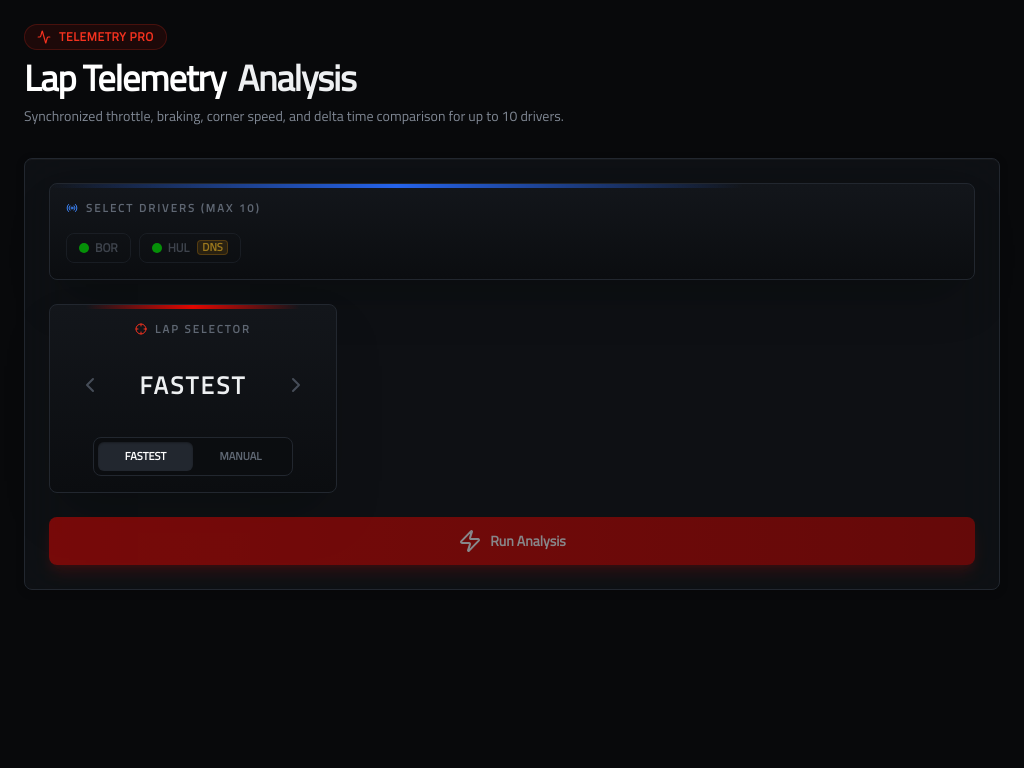
it: TelemetryTab with partial backend payloads › reports the DNS reason for unavailable drivers next to valid data
This screenshot has width=1024, height=768.
Click the button "BOR": (98, 248) top-left (66, 232), bottom-right (131, 262)
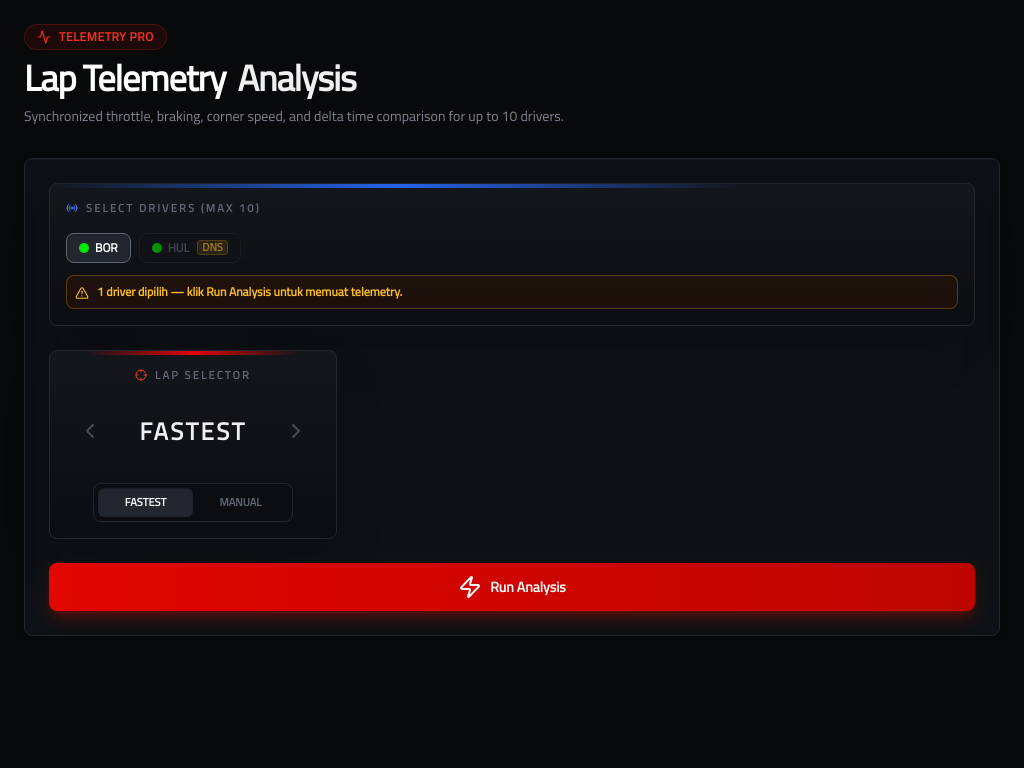
Click the button "HUL DNS": (190, 248) top-left (139, 232), bottom-right (241, 262)
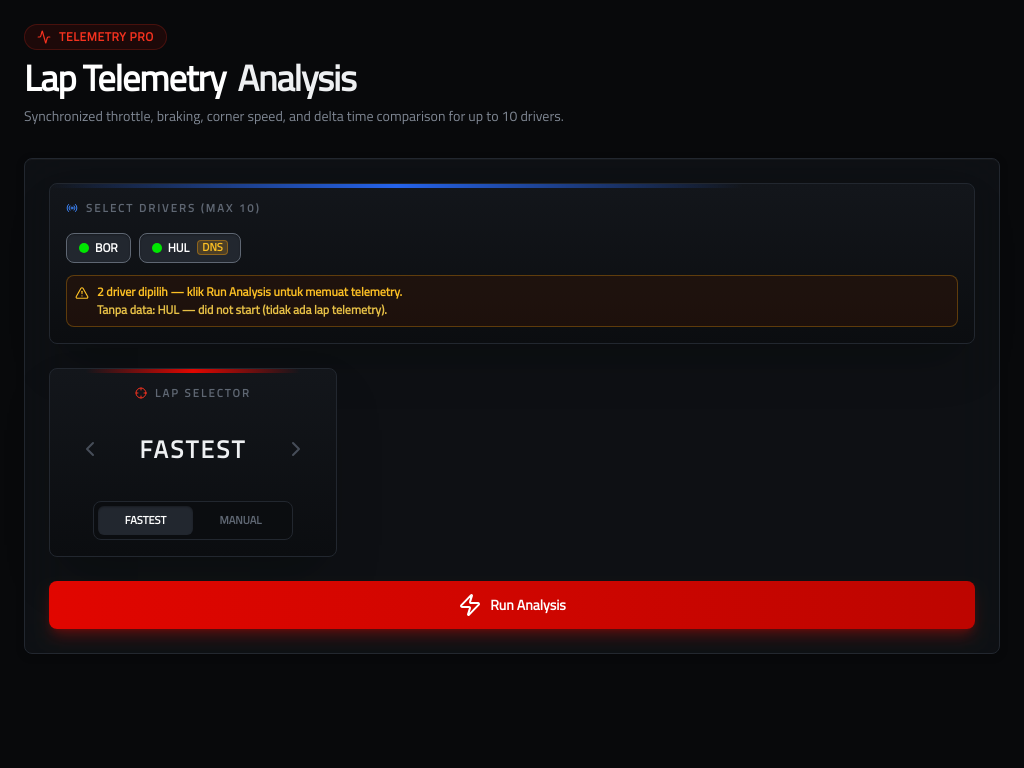
Click the button "Run Analysis": (512, 604) top-left (49, 580), bottom-right (975, 628)
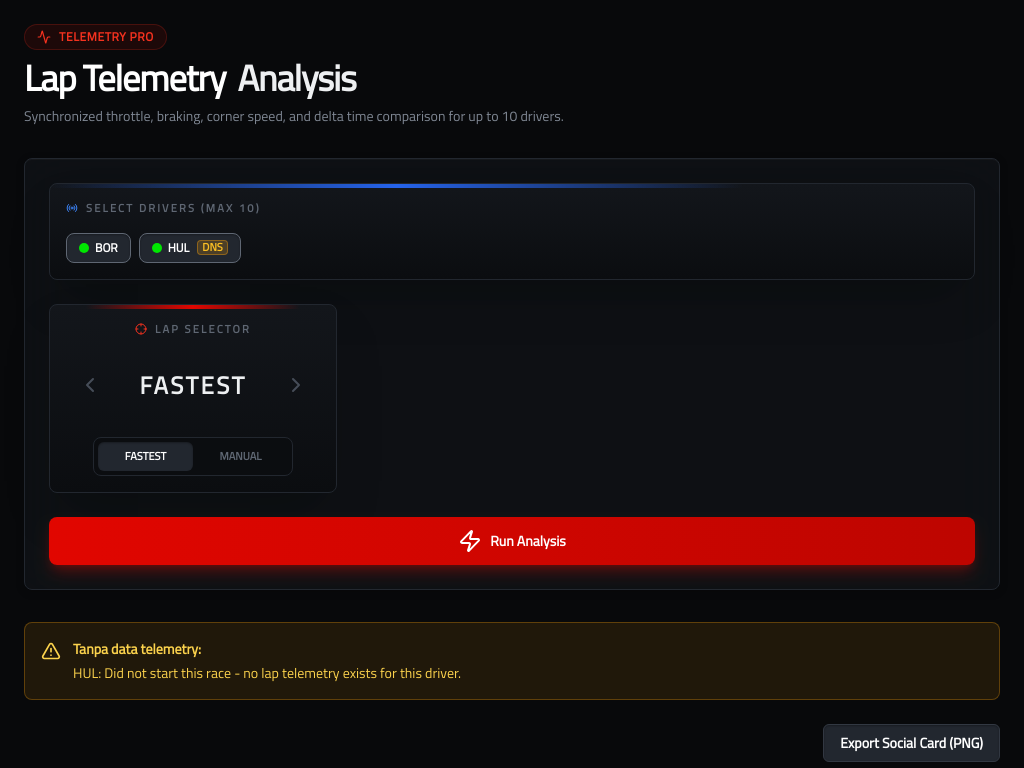
Result: the list item "HUL: Did not start this race" is shown at top-left (73, 662), bottom-right (461, 682)
